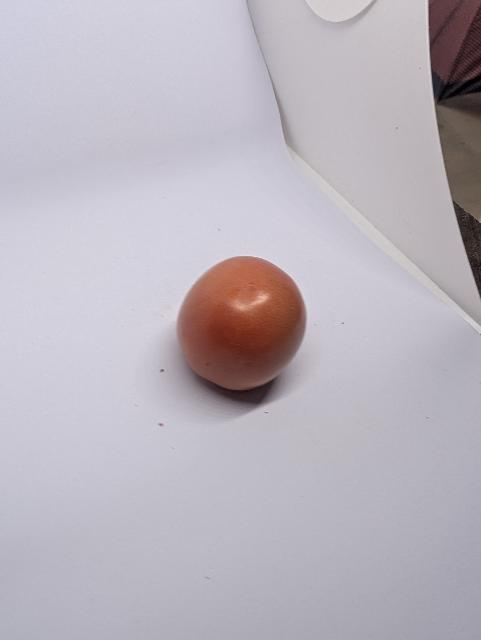red: (171, 247, 324, 399)
